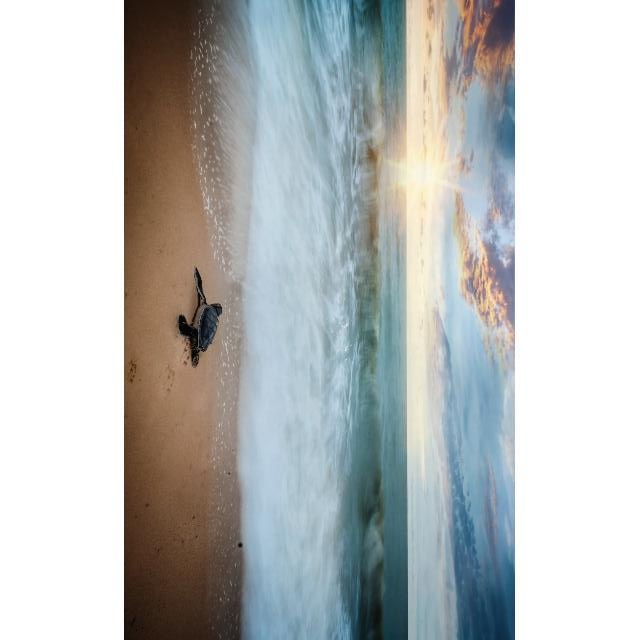turtle: (175, 268, 224, 369)
